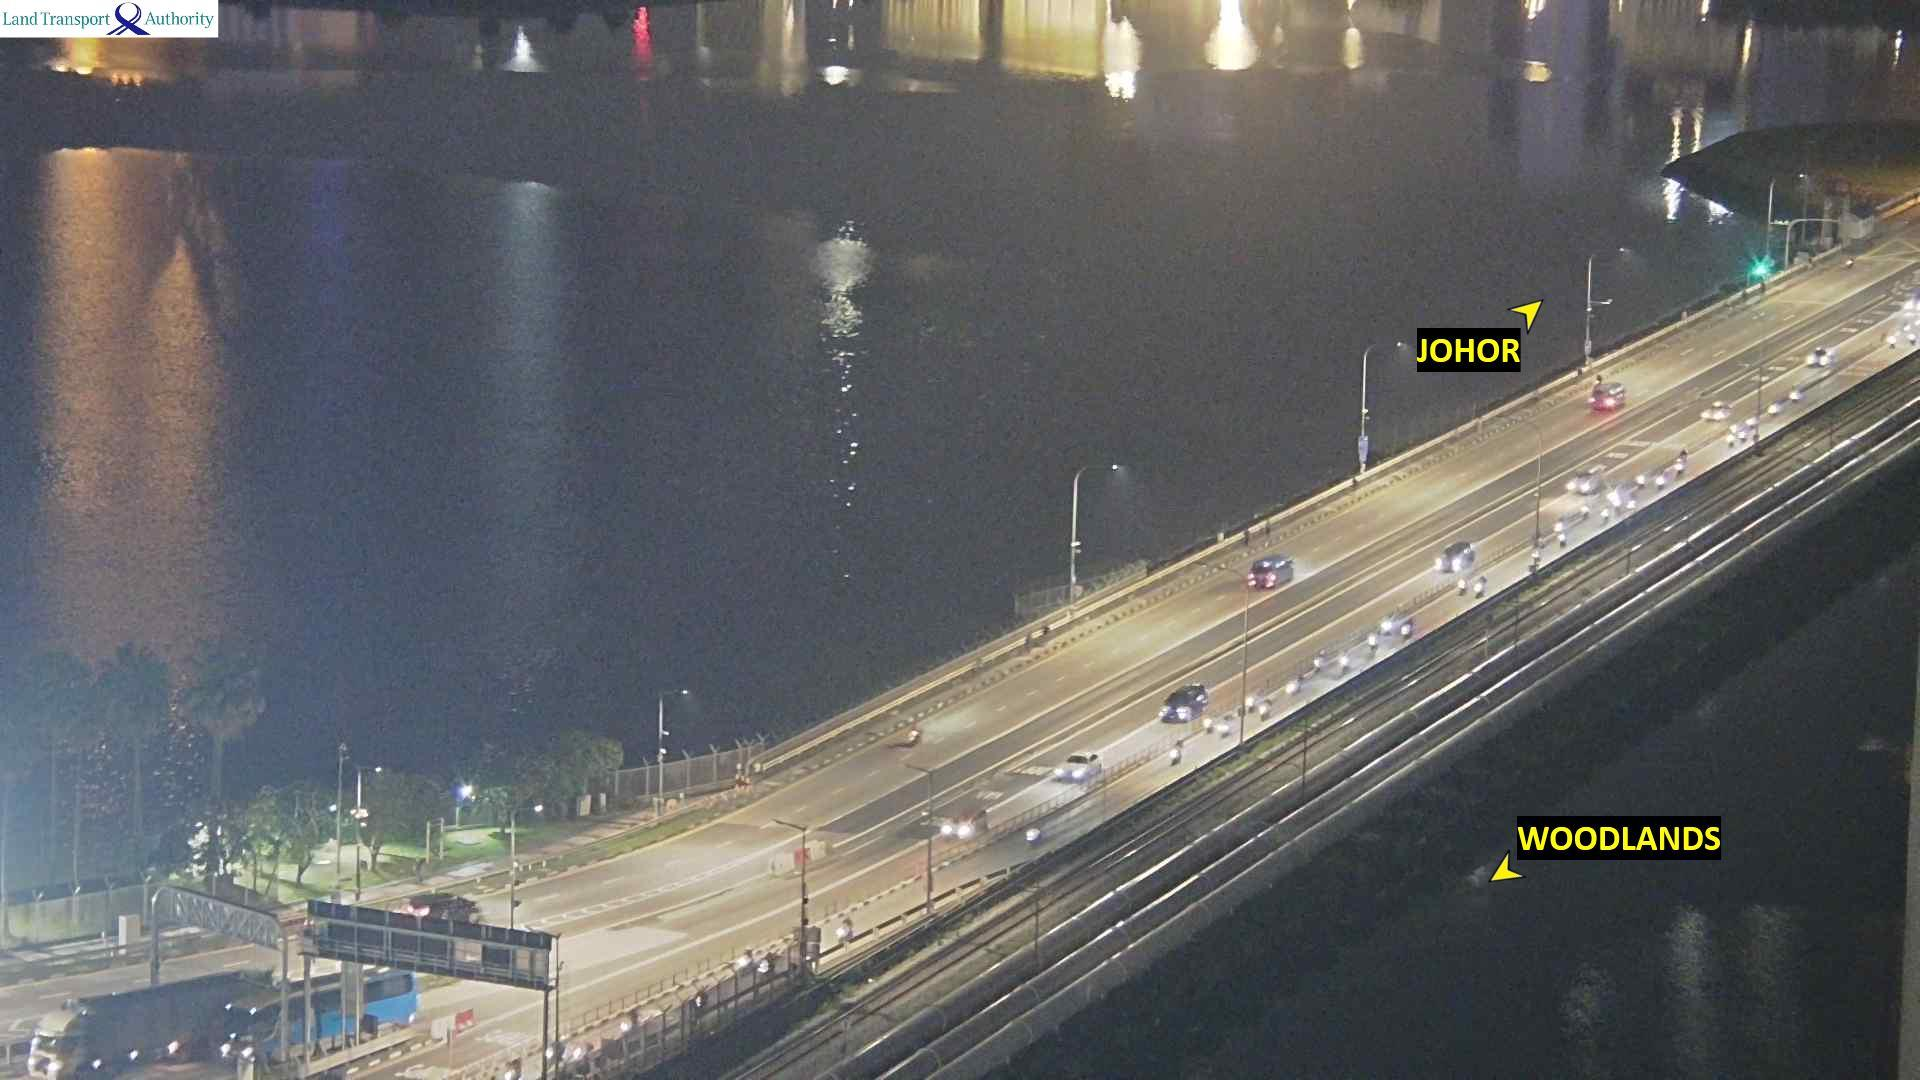vehicle-causeway-johor: (407, 894, 483, 924), (1250, 555, 1292, 590), (1592, 382, 1629, 409), (906, 723, 919, 747), (1845, 255, 1854, 269)
vehicle-causeway-singapore: (30, 971, 273, 1078), (225, 969, 413, 1060), (1160, 683, 1207, 722), (942, 808, 986, 838), (1435, 542, 1473, 574), (1060, 752, 1101, 779), (1568, 463, 1602, 493), (1703, 400, 1735, 421), (566, 1039, 595, 1061), (1808, 346, 1838, 365), (758, 952, 775, 980), (1283, 675, 1305, 696), (737, 948, 753, 976), (1672, 446, 1688, 474), (619, 1010, 640, 1030), (838, 916, 852, 943), (1726, 427, 1749, 443), (1168, 739, 1182, 765), (507, 1056, 520, 1080), (1768, 397, 1784, 416), (1242, 695, 1258, 712), (1312, 653, 1325, 673), (1027, 827, 1043, 843), (1255, 703, 1271, 719), (1341, 650, 1352, 673), (1474, 575, 1485, 597), (1366, 633, 1377, 654), (1791, 385, 1803, 404), (1457, 577, 1468, 597), (1656, 464, 1664, 490), (1202, 717, 1215, 732), (1601, 507, 1609, 525), (1559, 531, 1568, 547), (1220, 722, 1228, 737), (1555, 516, 1562, 533), (1582, 505, 1589, 519), (1636, 474, 1644, 486), (1889, 335, 1895, 349)
